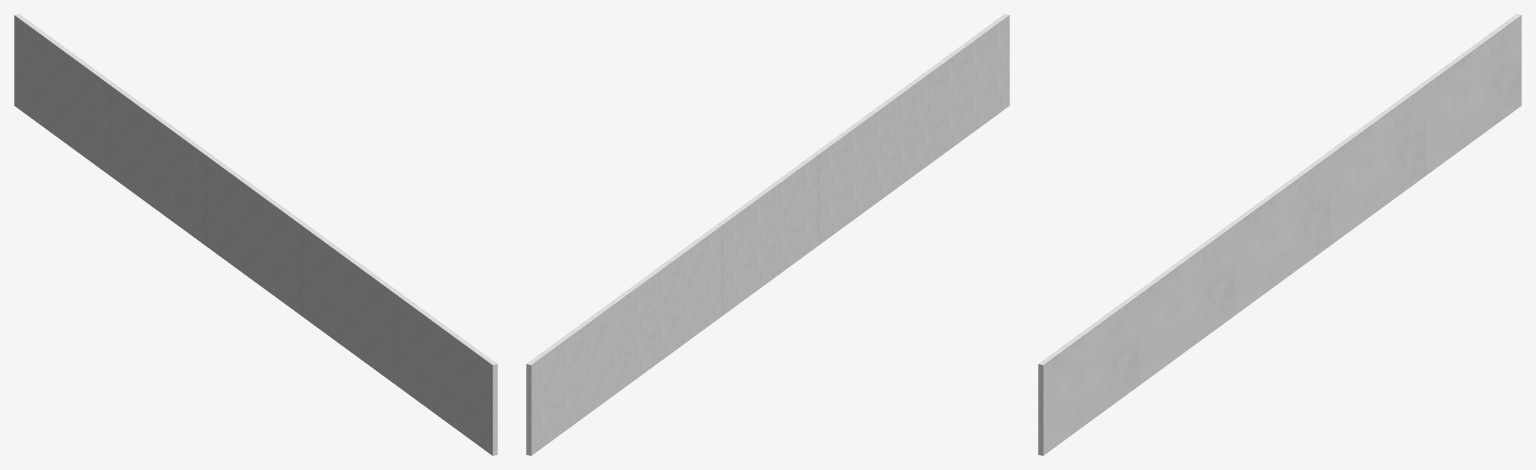
Rendered from wall_corridor.fbx.
The picture shows the model from 3 angles, left to right: view 1: azimuth 30°, elevation 25°; view 2: azimuth 150°, elevation 25°; view 3: azimuth 330°, elevation 25°; orthographic projection.
Visible parts, largest first — view 1: CorridorWall, CorridorWall5, CorridorWall3, CorridorWall7, CorridorWall9; view 2: CorridorWall9, CorridorWall5, CorridorWall7, CorridorWall, CorridorWall3; view 3: CorridorWall, CorridorWall5, CorridorWall3, CorridorWall7, CorridorWall9.
Boxes of the visible parts, <box> form: CorridorWall: <box>397,294,497,455</box>; CorridorWall5: <box>205,154,305,315</box>; CorridorWall3: <box>301,224,401,385</box>; CorridorWall7: <box>110,84,209,245</box>; CorridorWall9: <box>14,14,114,175</box>; CorridorWall9: <box>526,294,626,455</box>; CorridorWall5: <box>718,154,818,315</box>; CorridorWall7: <box>622,224,722,385</box>; CorridorWall: <box>909,14,1009,175</box>; CorridorWall3: <box>814,84,913,245</box>; CorridorWall: <box>1038,294,1138,455</box>; CorridorWall5: <box>1230,154,1330,315</box>; CorridorWall3: <box>1134,224,1234,385</box>; CorridorWall7: <box>1326,84,1425,245</box>; CorridorWall9: <box>1421,14,1521,175</box>.
Size of the model in its own units: 36.93 by 667 by 6377.
1 material, 1 textured.
